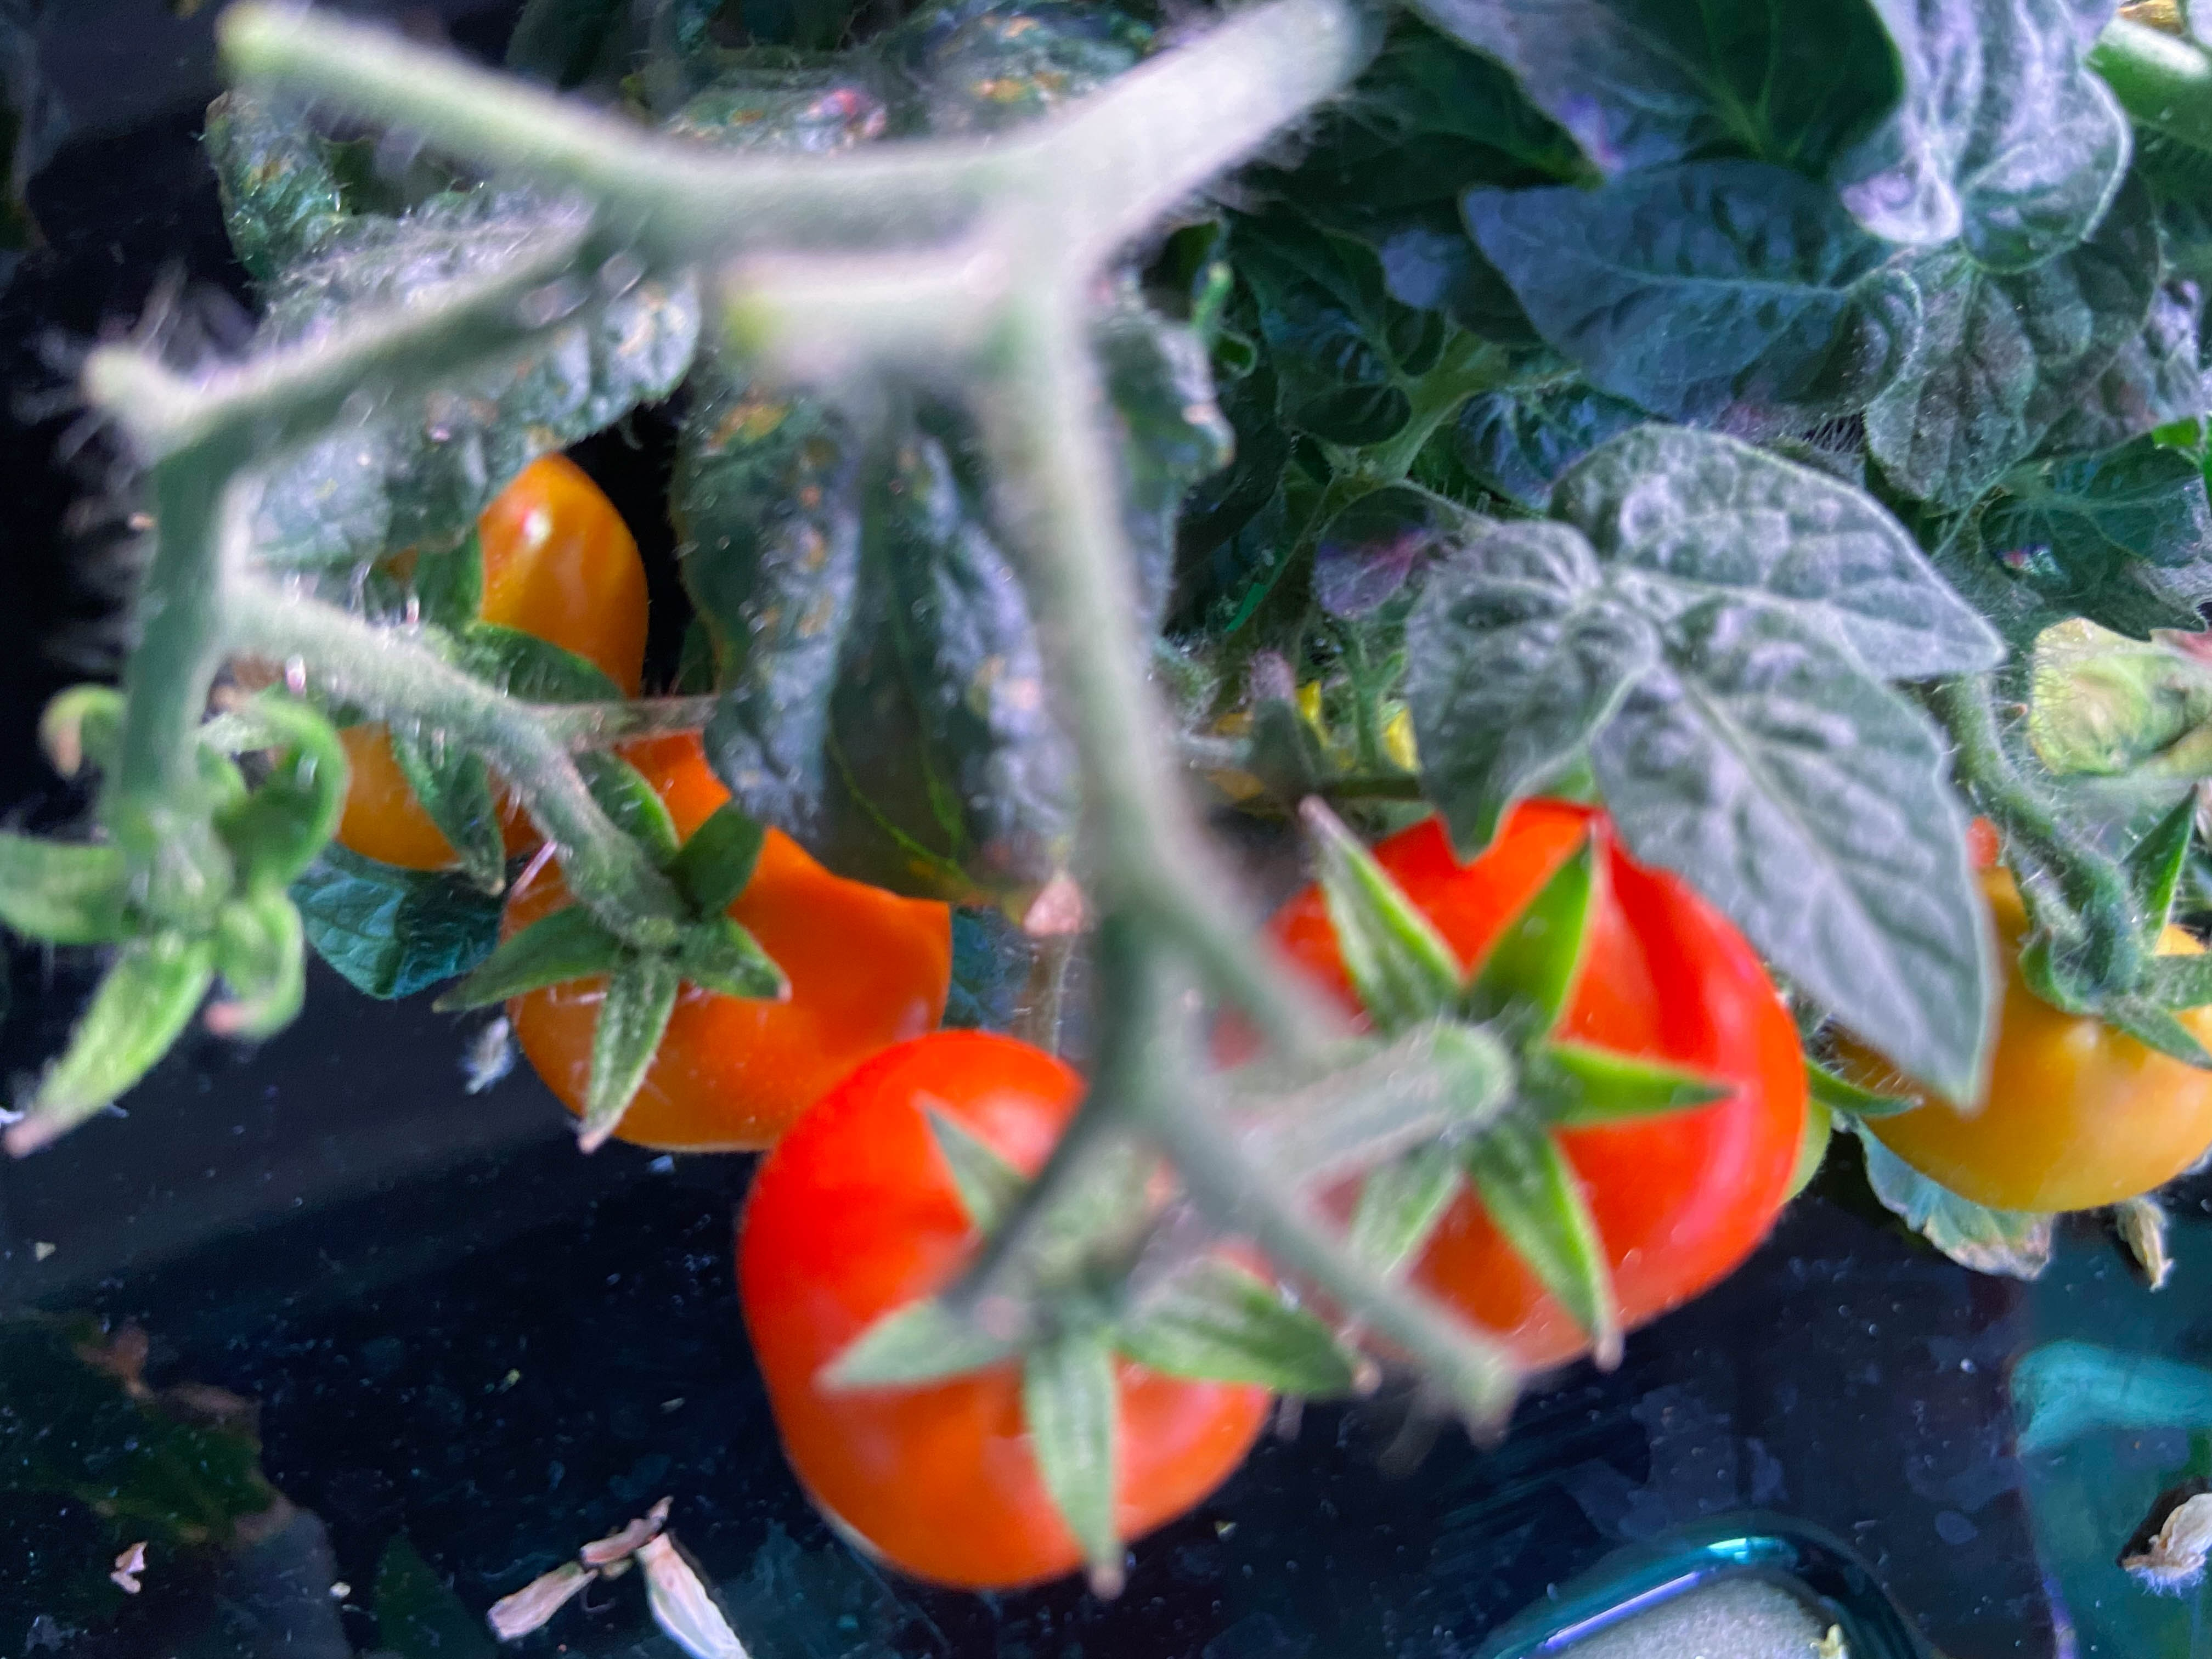red: (1226, 779, 1811, 1377), (733, 1023, 1268, 1593), (493, 723, 965, 1159), (338, 430, 671, 871), (1858, 887, 2212, 1216)
